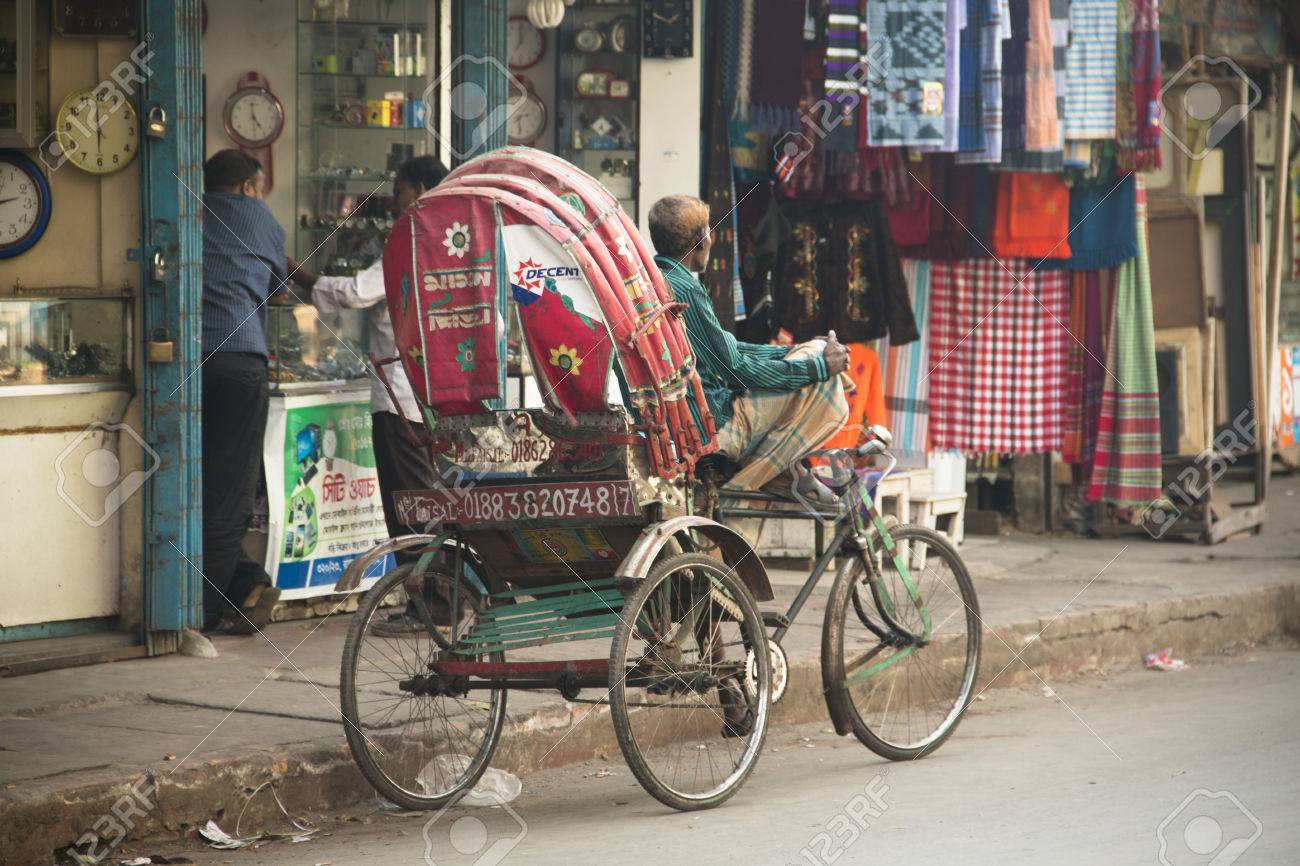Rickshaw: (358, 140, 956, 789)
